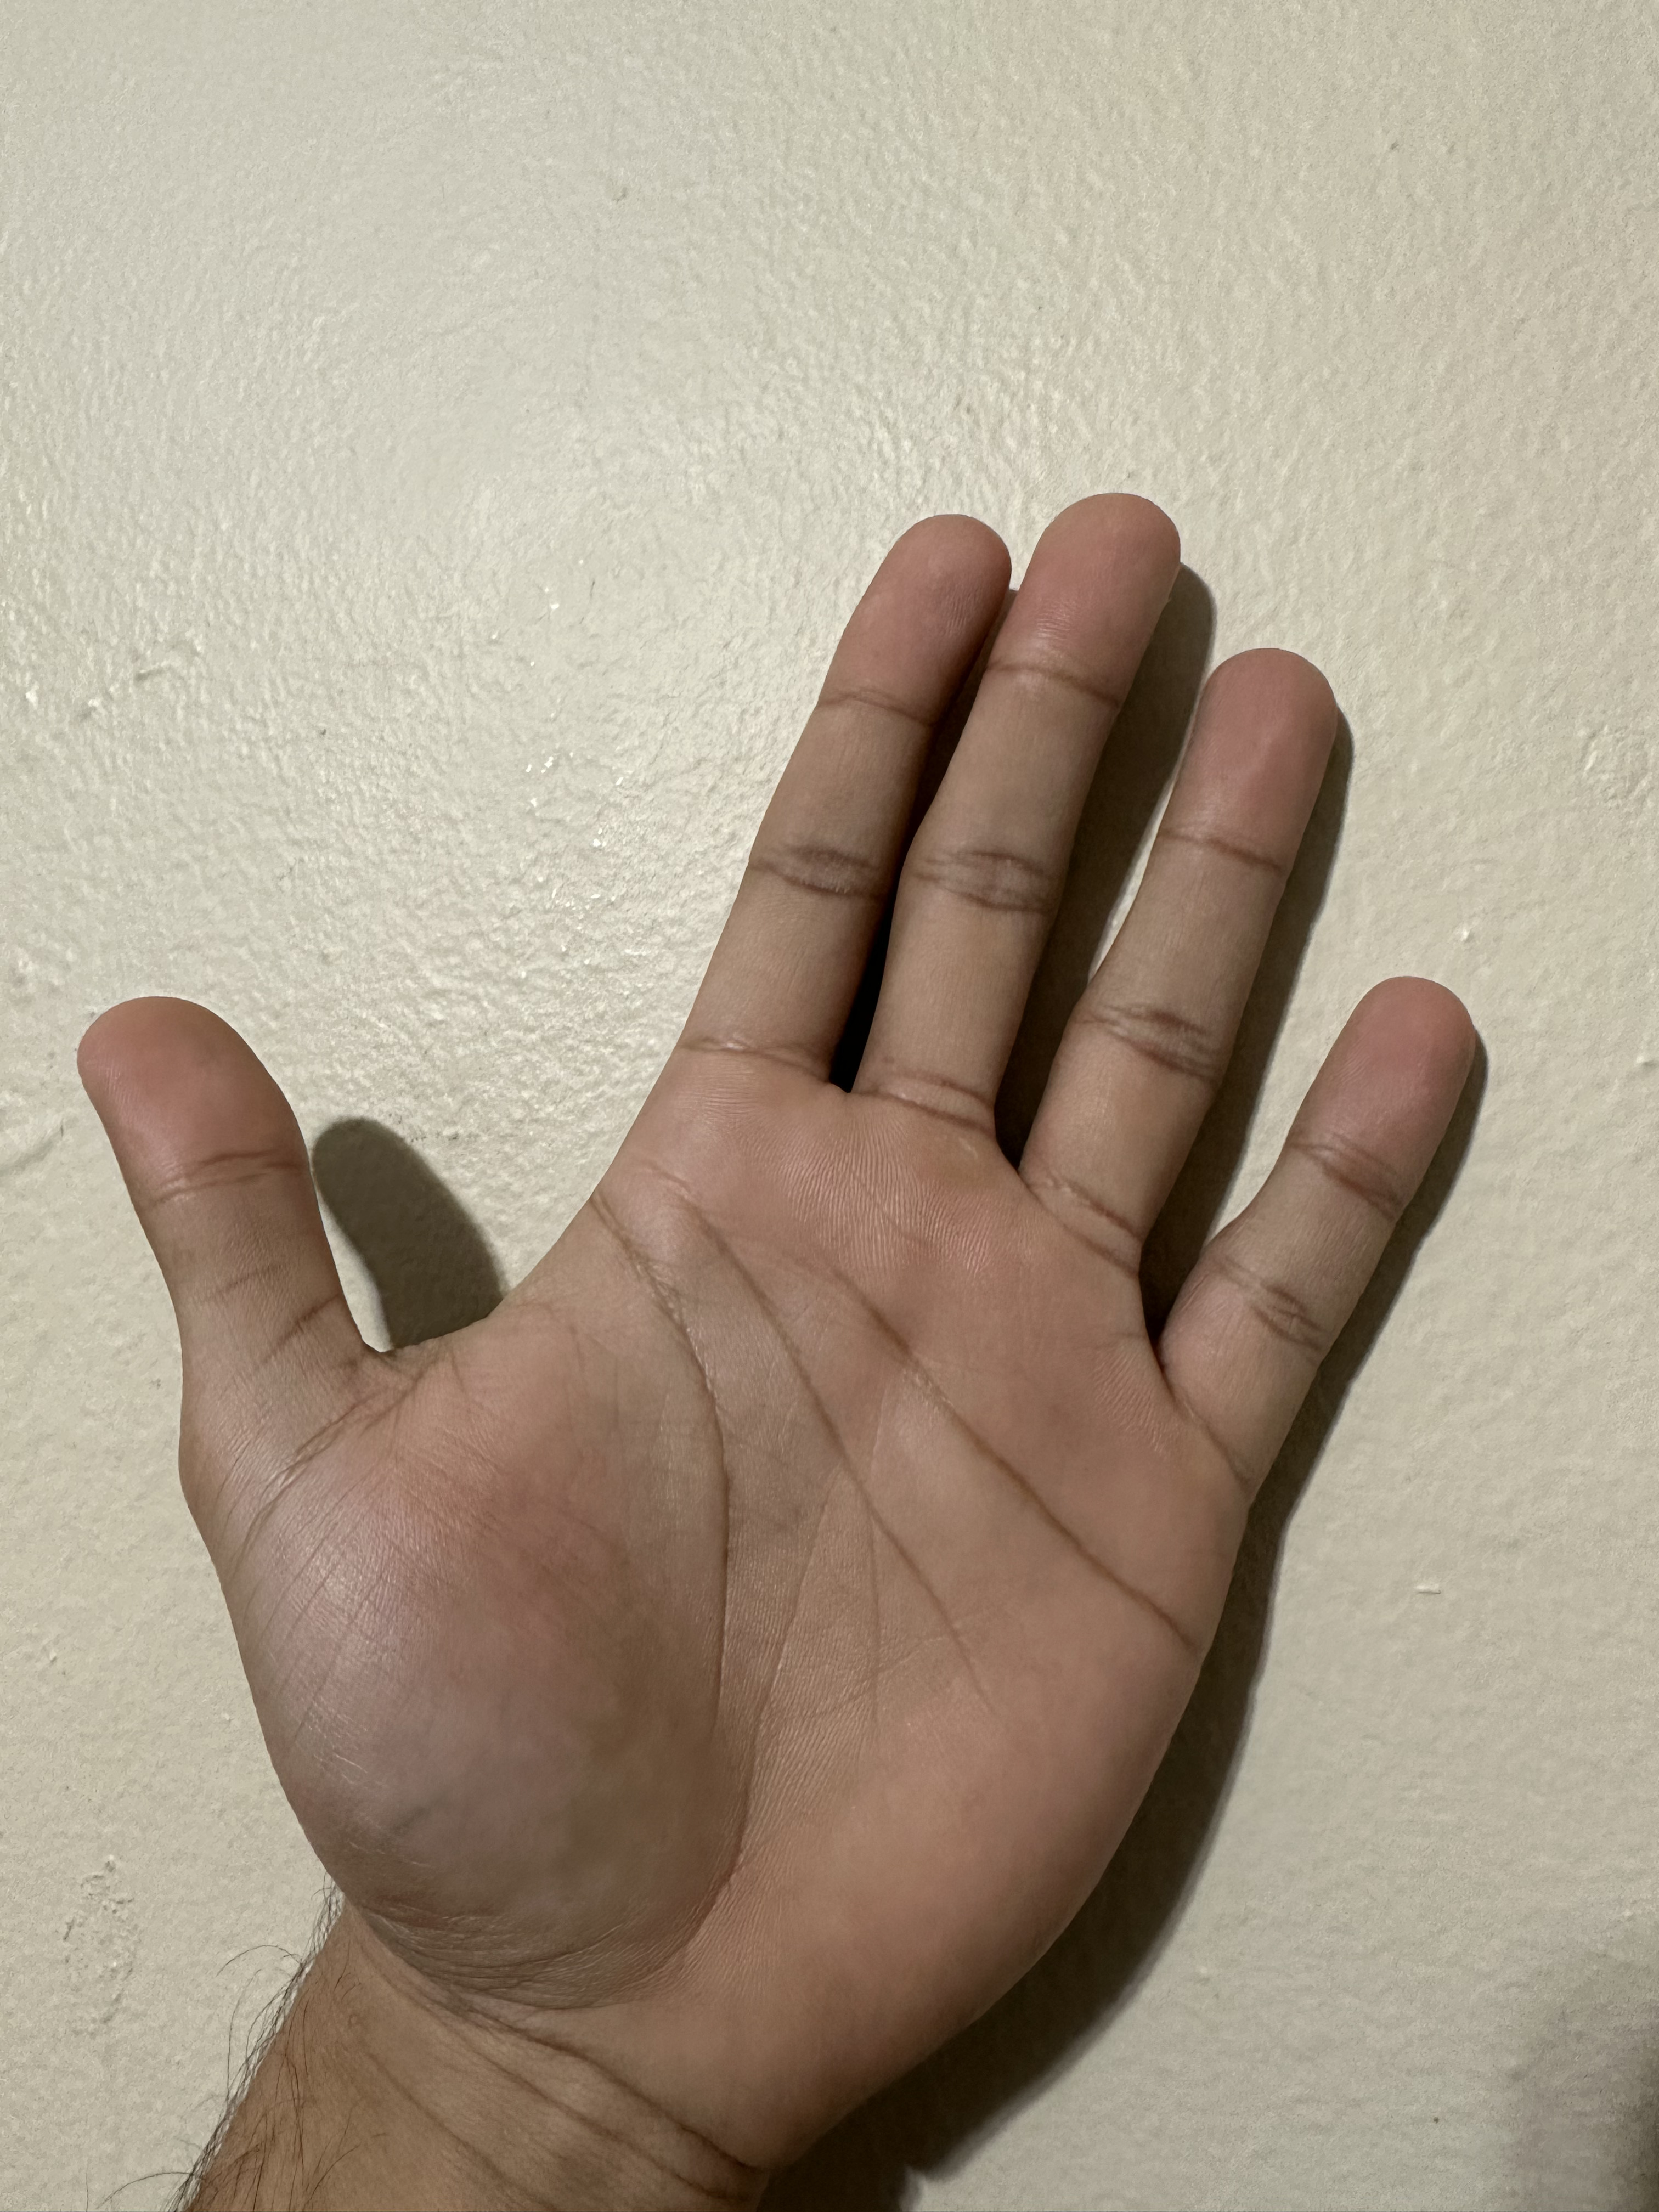finger: (40, 963, 322, 1197), (1309, 935, 1509, 1205), (1180, 601, 1373, 876), (1021, 442, 1197, 716), (826, 481, 1025, 714)
